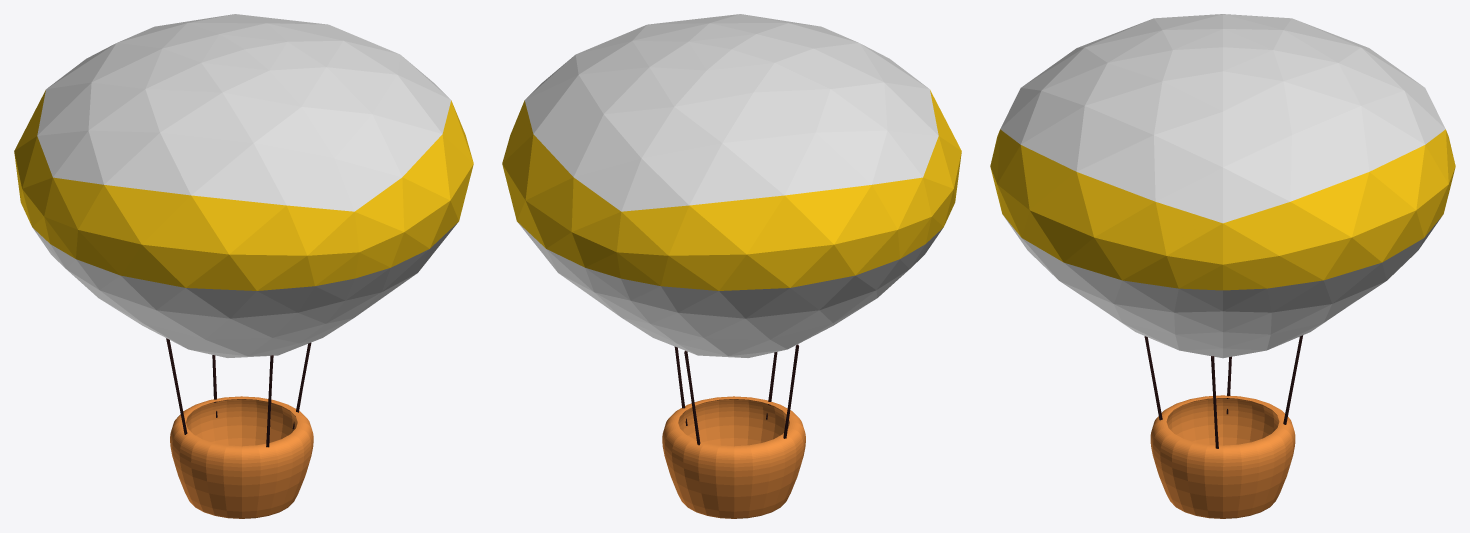
Rendered from ballon_yellow.dae.
The picture shows the model from 3 angles, left to right: view 1: azimuth 30°, elevation 25°; view 2: azimuth 150°, elevation 25°; view 3: azimuth 270°, elevation 25°; orthographic projection.
Visible parts, largest first — view 1: 气球, 底座; view 2: 气球, 底座; view 3: 气球, 底座.
Boxes of the visible parts, x1,y1,x2,y2 form: 气球: (14, 14, 473, 357); 底座: (170, 396, 313, 518); 气球: (502, 14, 961, 357); 底座: (662, 396, 805, 518); 气球: (990, 14, 1455, 358); 底座: (1150, 395, 1295, 518).
Size of the model in its own units: 568 by 606 by 568.
